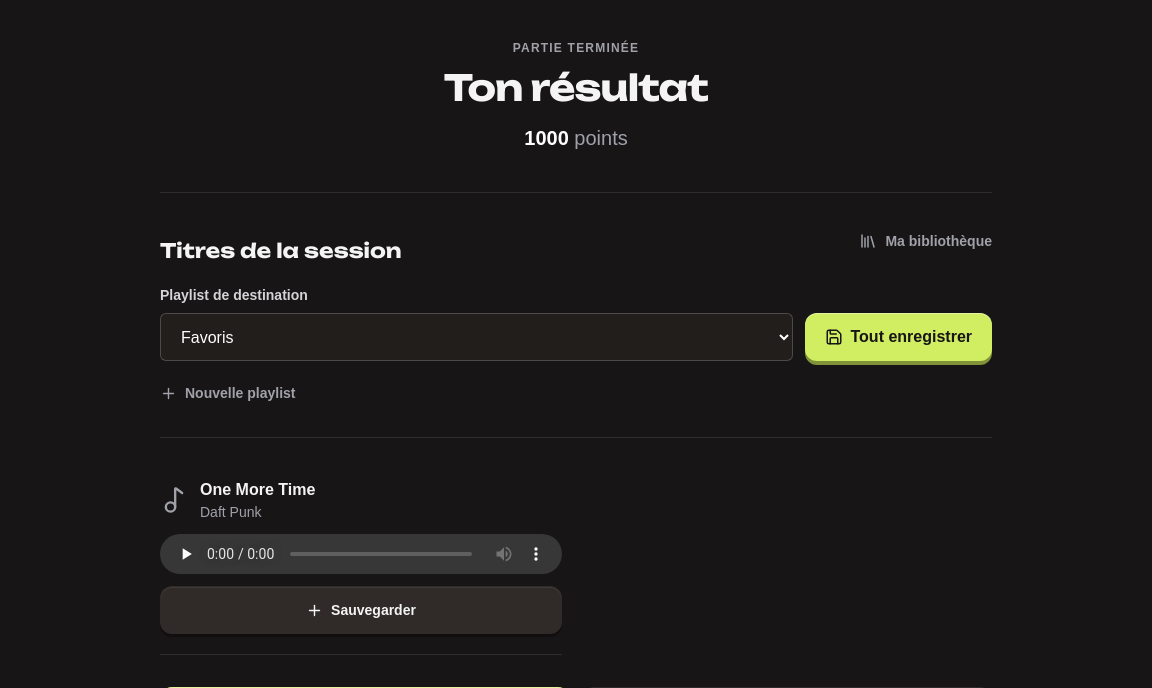
Test: EndScreen library actions › also offers a new playlist when the library already contains one
Click the button "Nouvelle playlist" at (228, 393), box [160, 369, 296, 417]
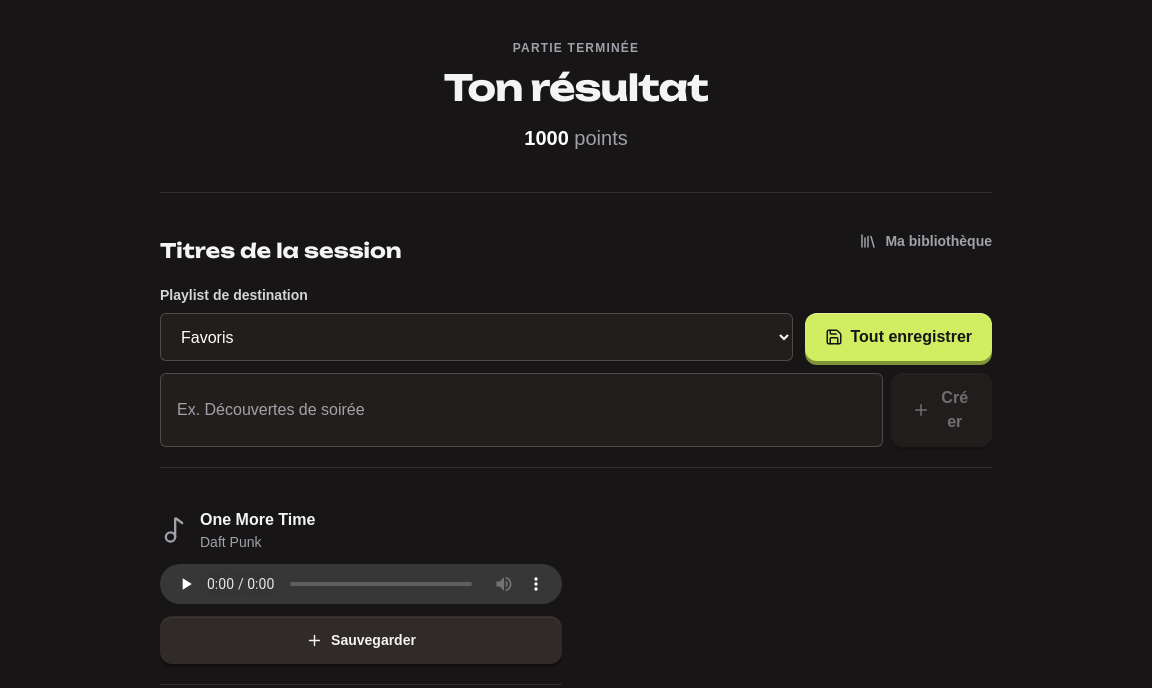
Type "Soirée" into the field named "nom de la nouvelle playlist" at (522, 410), box [160, 373, 883, 447]
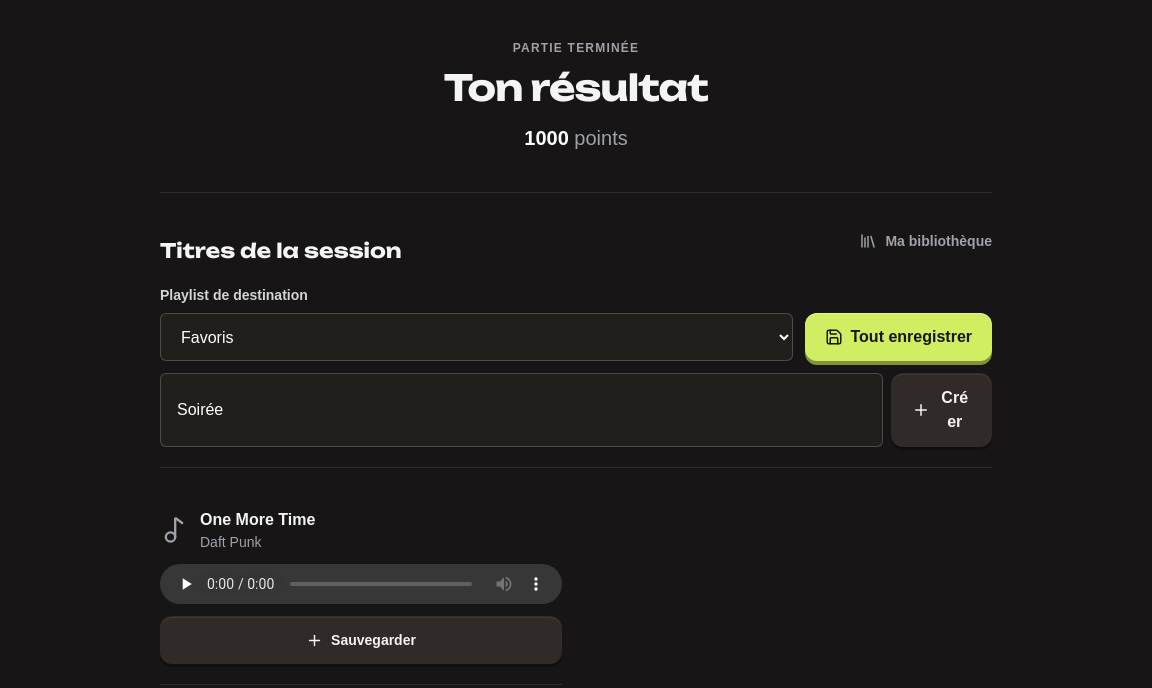
Click the button "Créer" at (942, 410), box [891, 373, 992, 447]
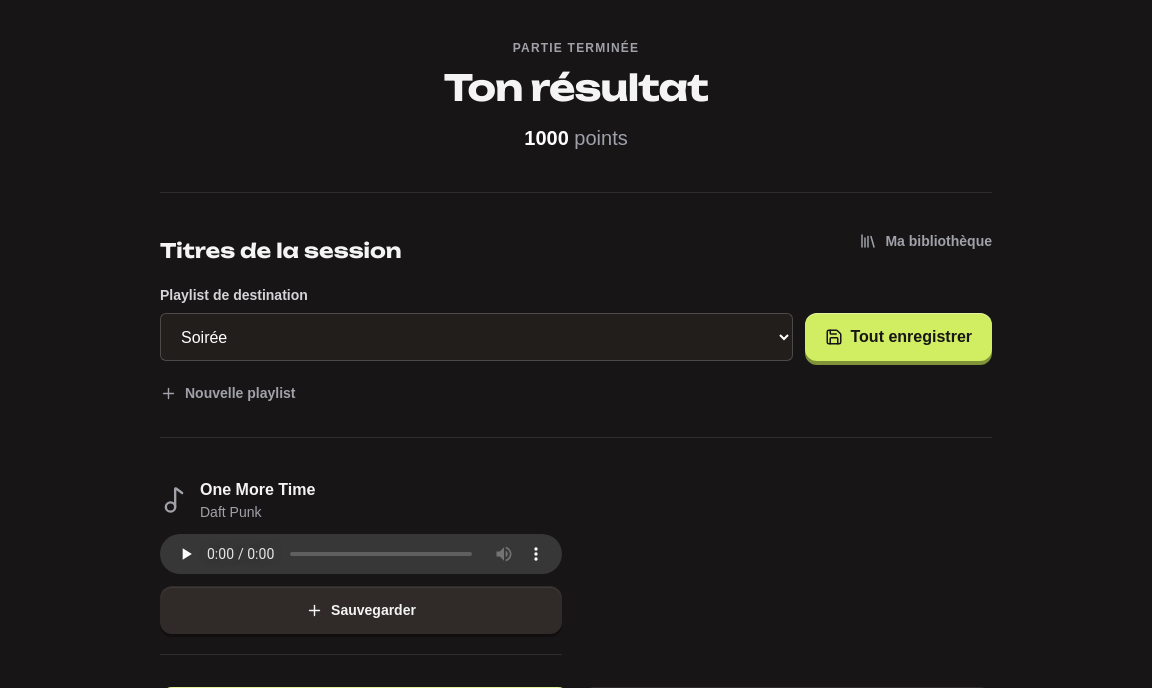
Expected: the dropdown labelled "Playlist de destination" shows "Soirée", [160, 313, 792, 361]
